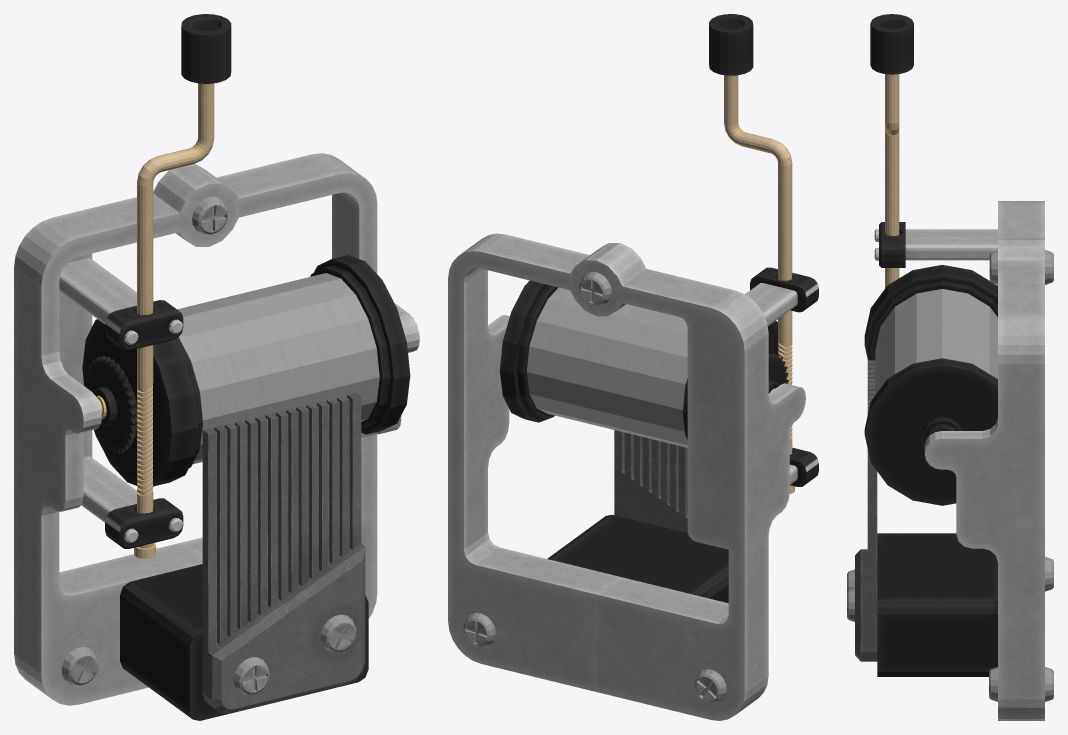
File: Orgo.glb
3 renders of one model, left to right at view 1: azimuth 30°, elevation 25°; view 2: azimuth 150°, elevation 25°; view 3: azimuth 270°, elevation 25°, orthographic. The views are drawn at different scales.
Parts seen in each view (by area): view 1: Cylinder.004; view 2: Cylinder.004; view 3: Cylinder.004.
Part boxes in pixels (x1,y1,x2,y2): Cylinder.004: (14, 14, 419, 720); Cylinder.004: (448, 14, 818, 720); Cylinder.004: (847, 14, 1053, 720).
Size of the model in its own units: 0.4827 by 0.9728 by 0.298.
1 material, 1 textured.
